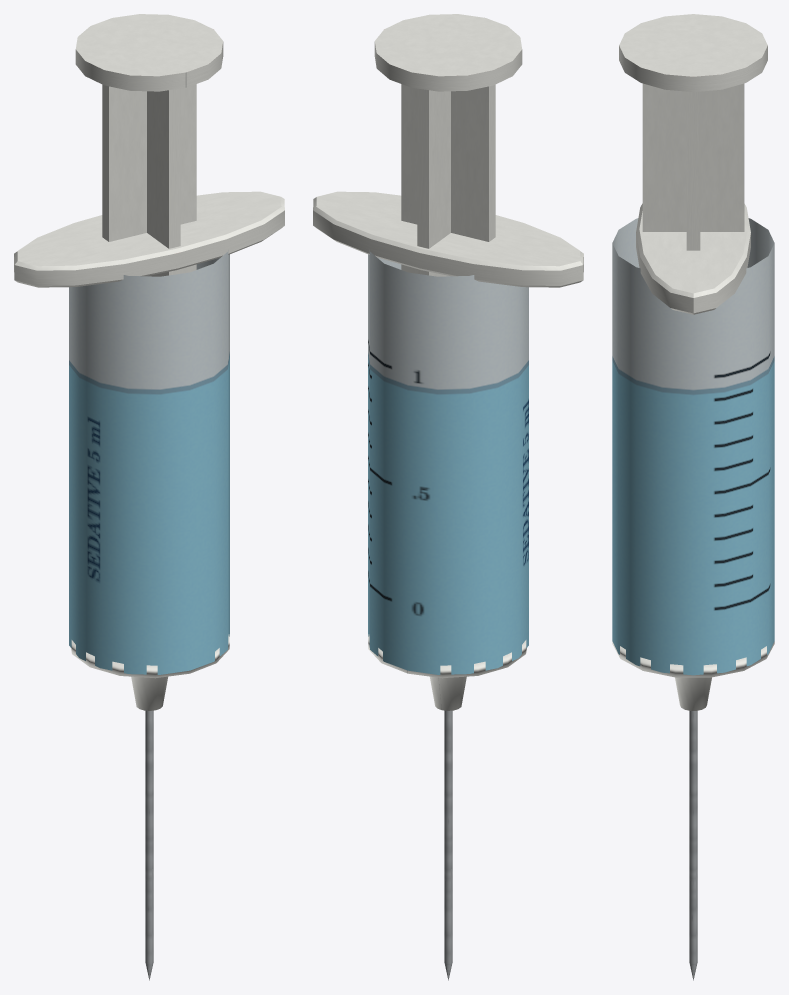
File: sedative.obj
3 renders of one model, left to right at view 1: azimuth 30°, elevation 25°; view 2: azimuth 150°, elevation 25°; view 3: azimuth 270°, elevation 25°, orthographic.
Parts seen in each view (by area): view 1: sedative_0_surface, sedative_1_surface; view 2: sedative_0_surface, sedative_1_surface; view 3: sedative_0_surface, sedative_1_surface.
Boxes of the visible parts, x1,y1,x2,y2 form: sedative_0_surface: (14,14,284,710); sedative_1_surface: (145,710,153,980); sedative_0_surface: (313,14,583,710); sedative_1_surface: (444,710,452,980); sedative_0_surface: (612,14,774,710); sedative_1_surface: (689,710,697,980).
Size of the model in its own units: 0.0923 by 0.3055 by 0.048.
Materials: 2 (2 with a texture image).
